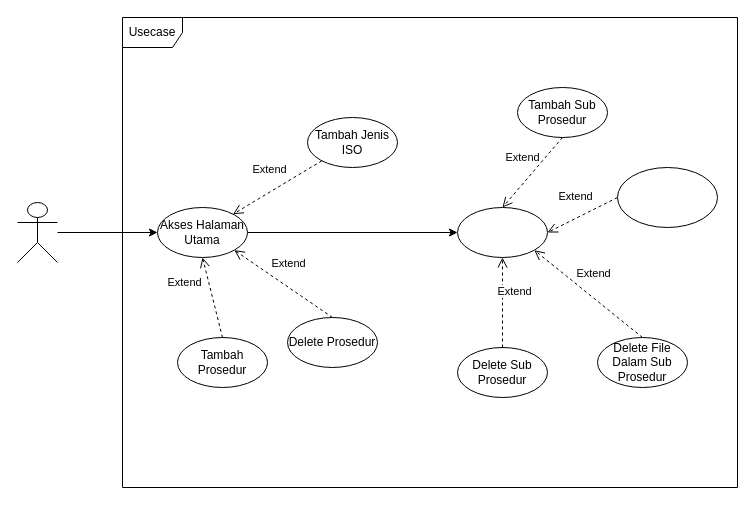
Some shapes in this 755 by 505 pixel diagram are drawn without their labels. Each missing label, with the box of its shape:
Admin: (16, 202, 58, 262)
Akses Halaman Sub Prosedur: (456, 206, 548, 258)
Menambahkan File dalam Sun Prosedur: (616, 166, 718, 228)
